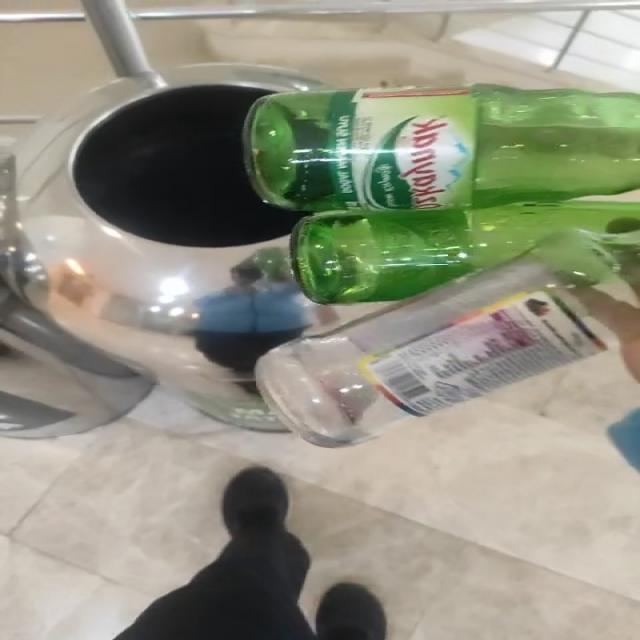Glass: (244, 84, 640, 448)
